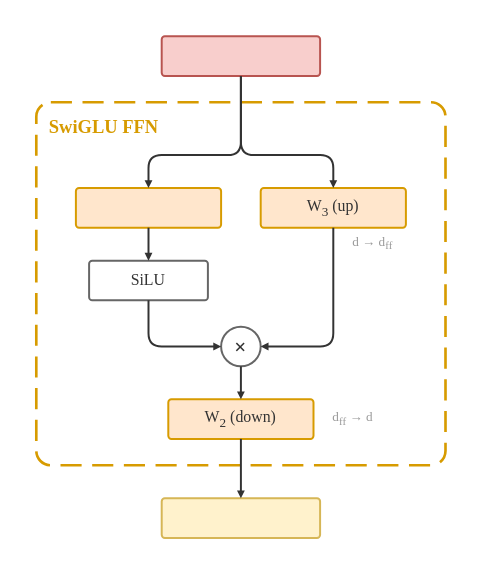
This 480x573 diagram has some shape labels left out. Each missing label, with the box of its shape:
Input x: (160, 35, 320, 76)
Output: (160, 497, 320, 538)
W 1 (gate): (74, 187, 221, 228)
